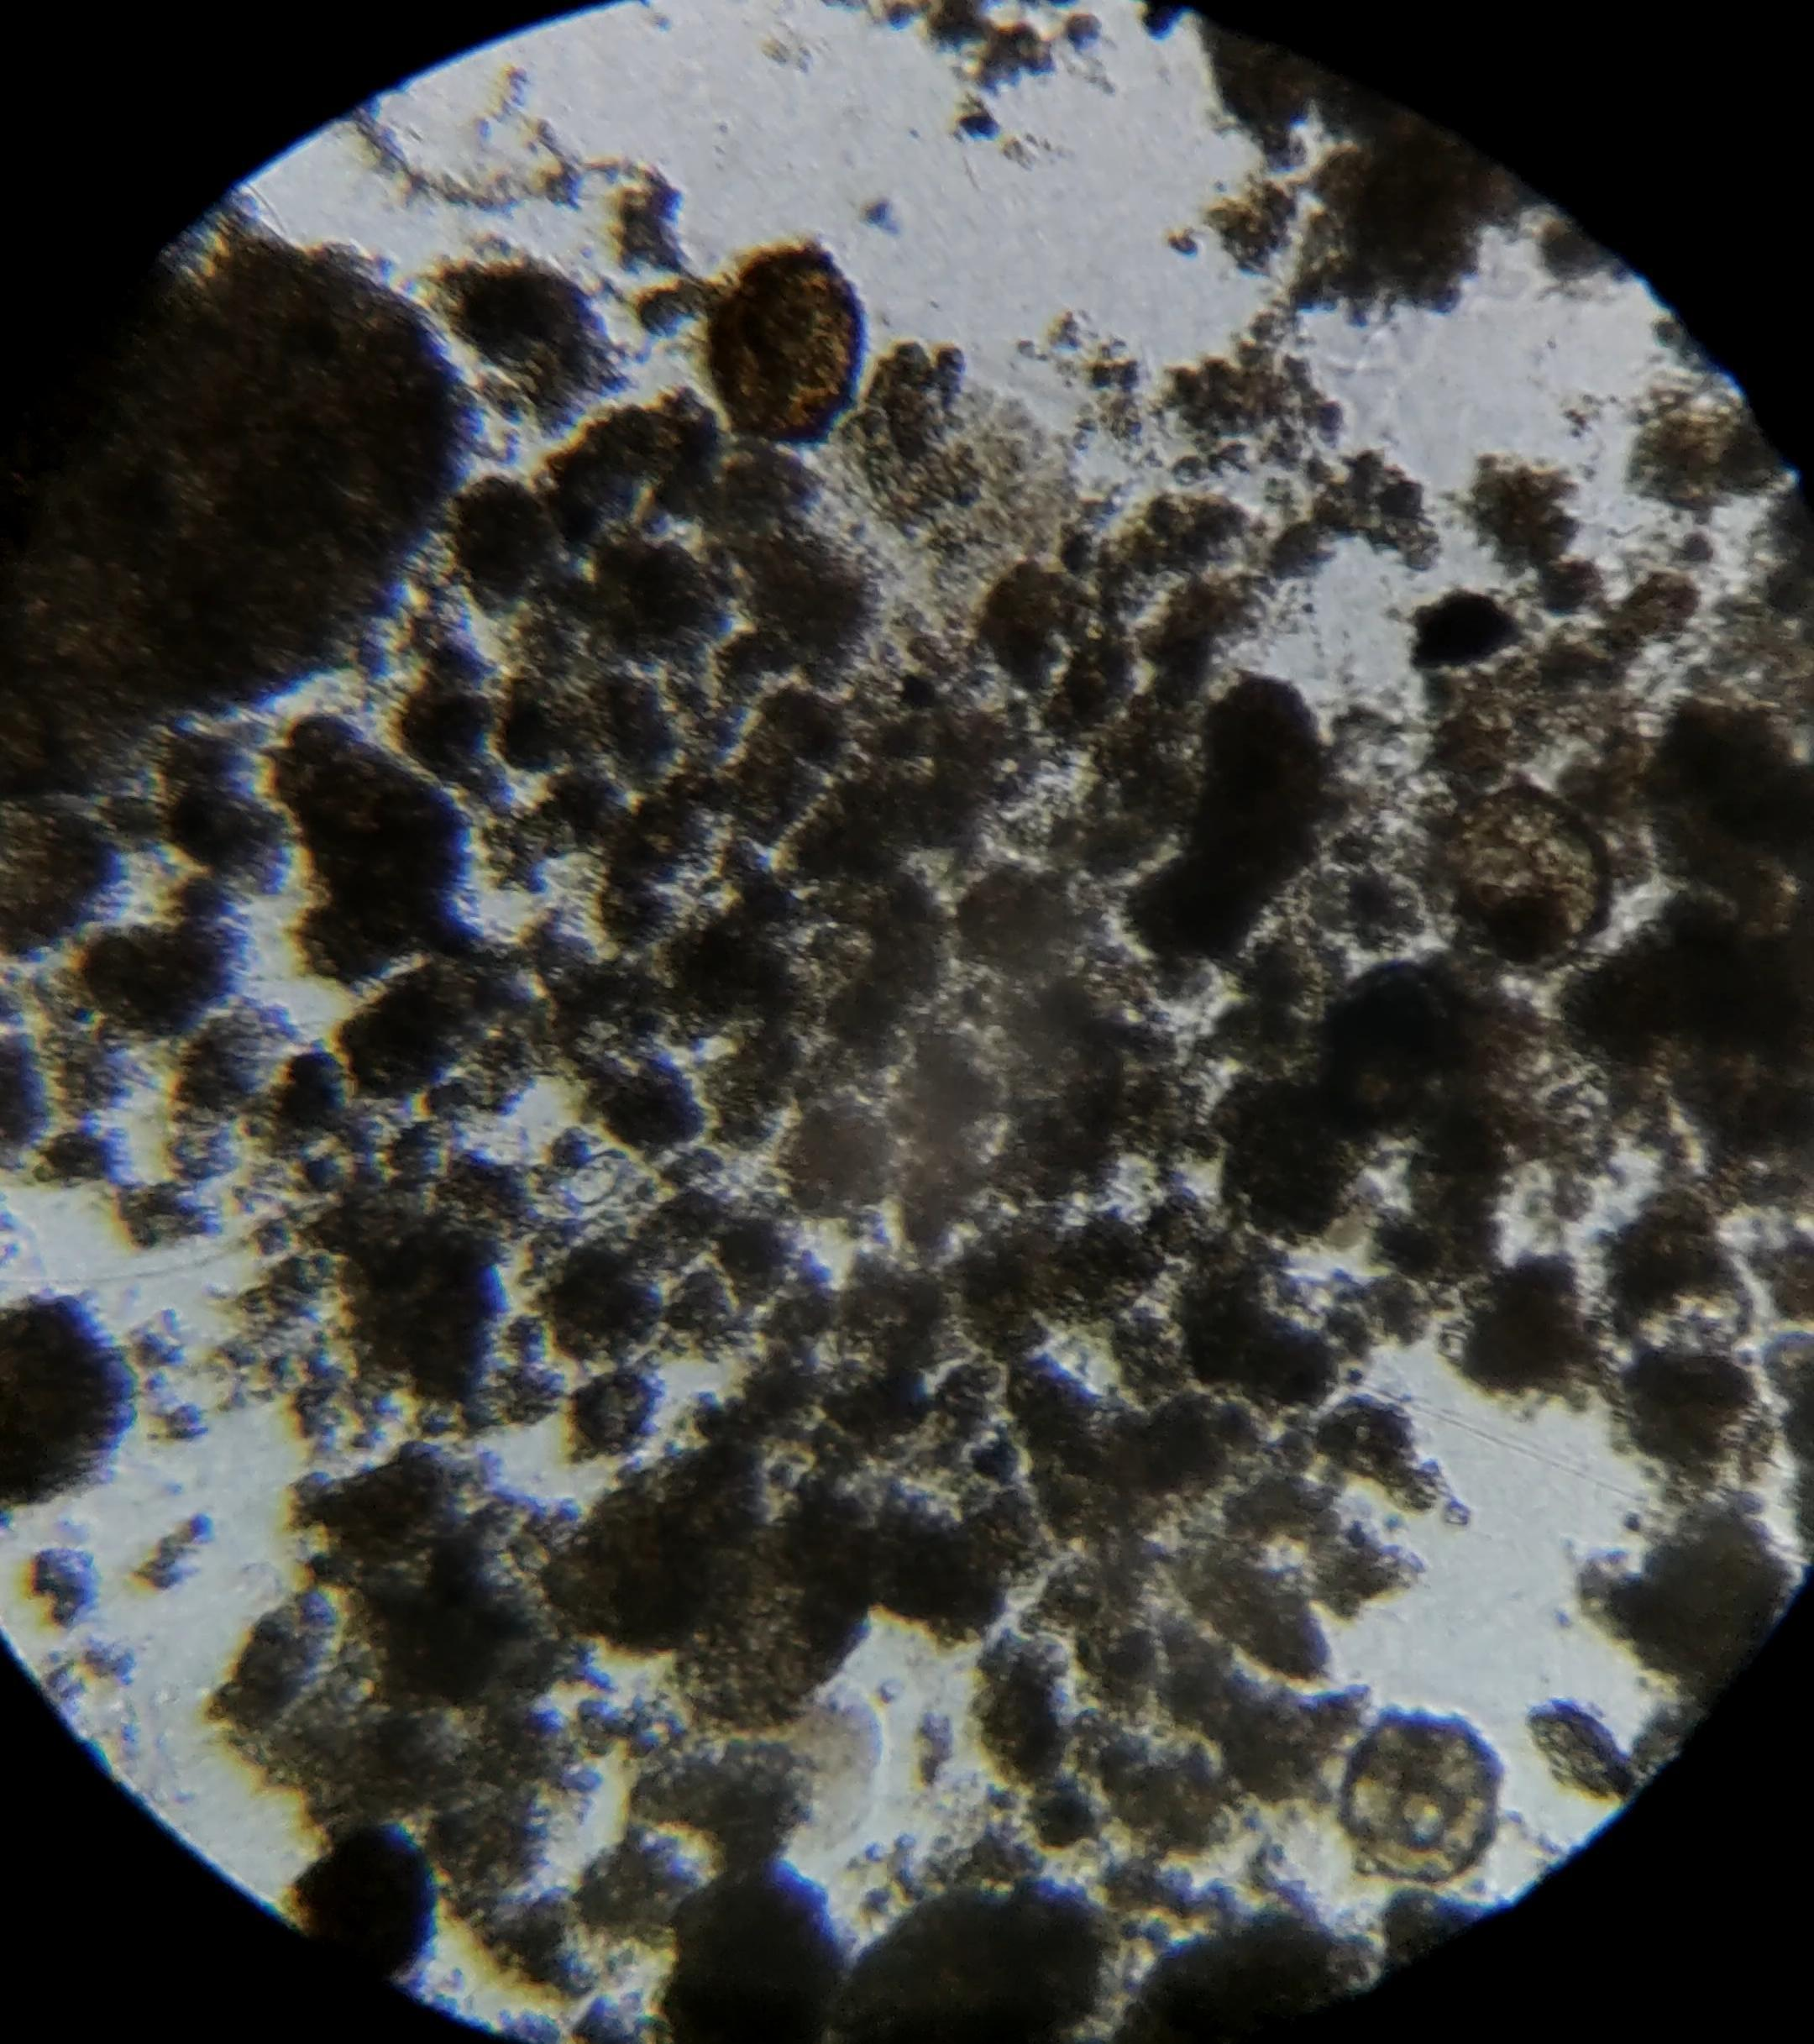Arcella: (1429, 788, 1607, 976), (716, 256, 858, 441), (1343, 1716, 1495, 1883)
